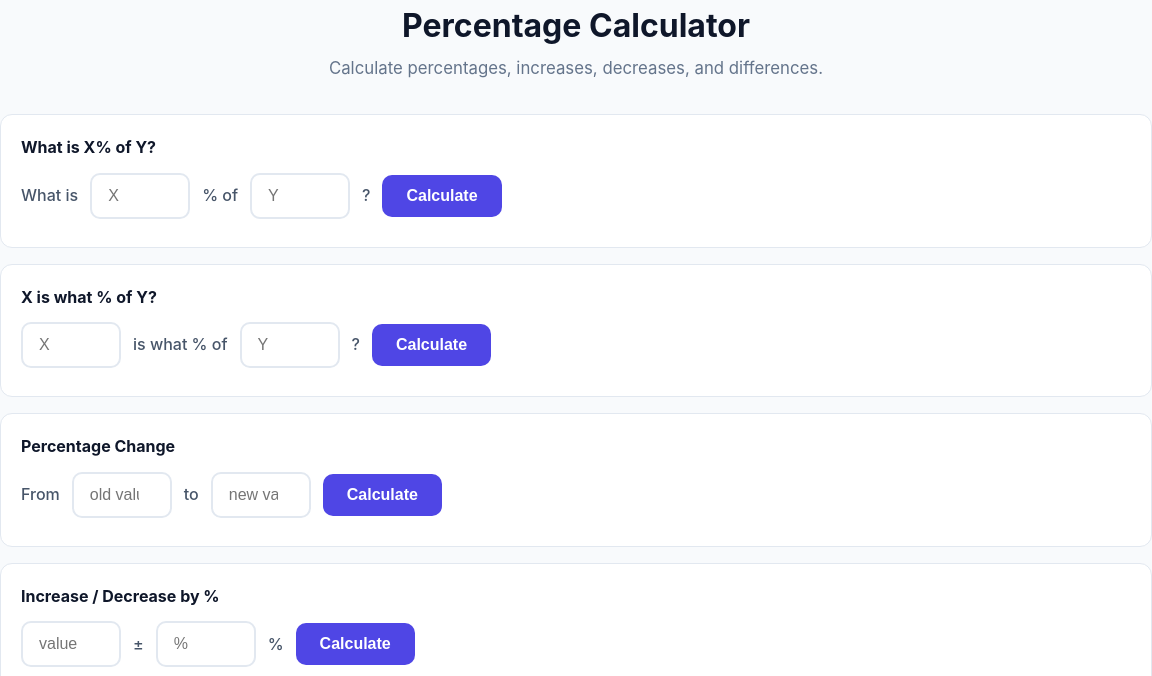
Scenario: PercentageCalculator › calculates X% of Y
Type "25" into the number field with placeholder "X" below "What is X% of Y?".
click(140, 196); type("25")  # box [90,173,190,219]
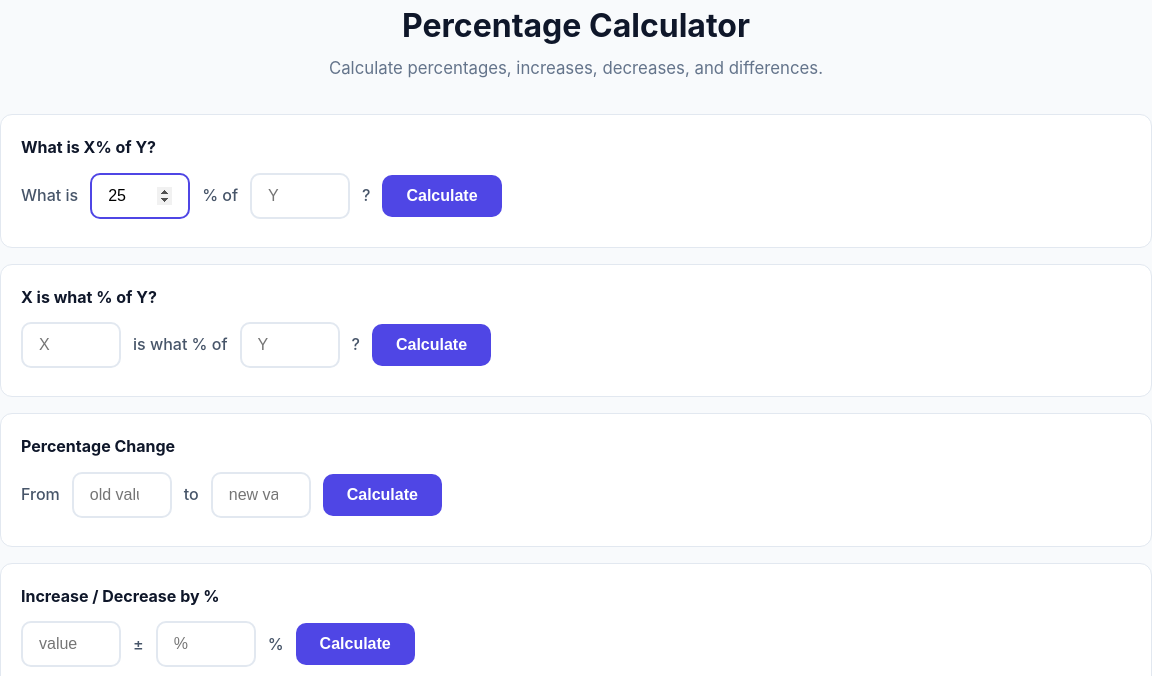
Type "200" into the number field with placeholder "Y" below "What is X% of Y?".
click(300, 196); type("200")  # box [250,173,350,219]
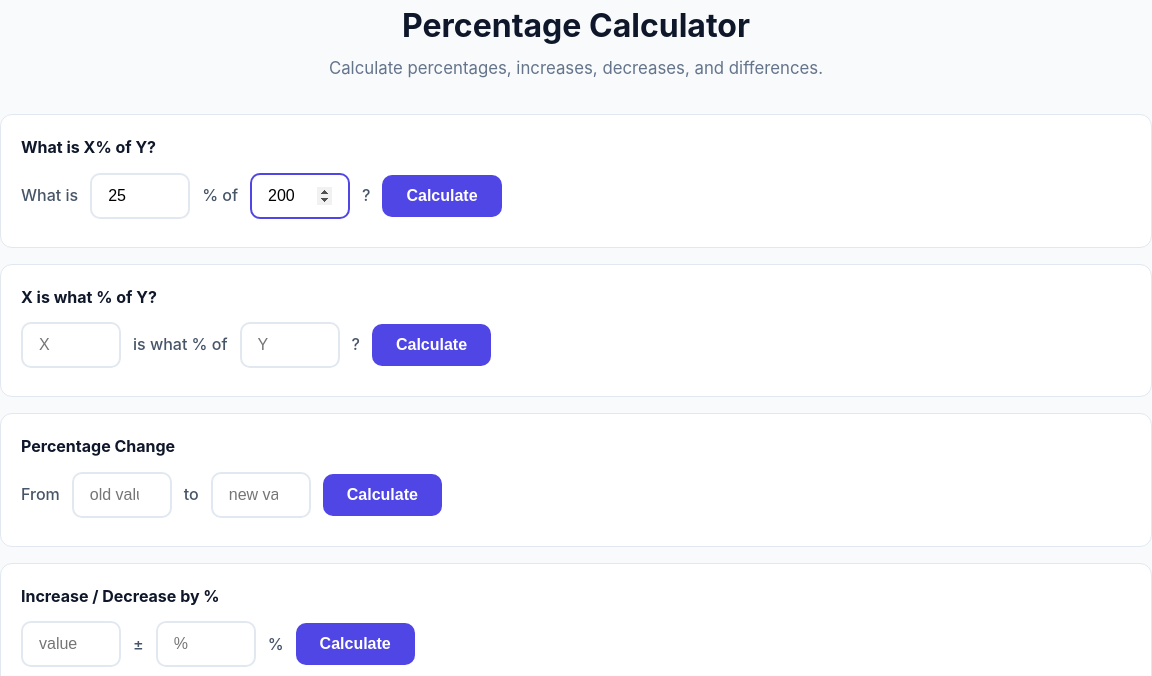
Click the button "Calculate" below "What is X% of Y?".
click(442, 196)  # box [382,175,502,217]
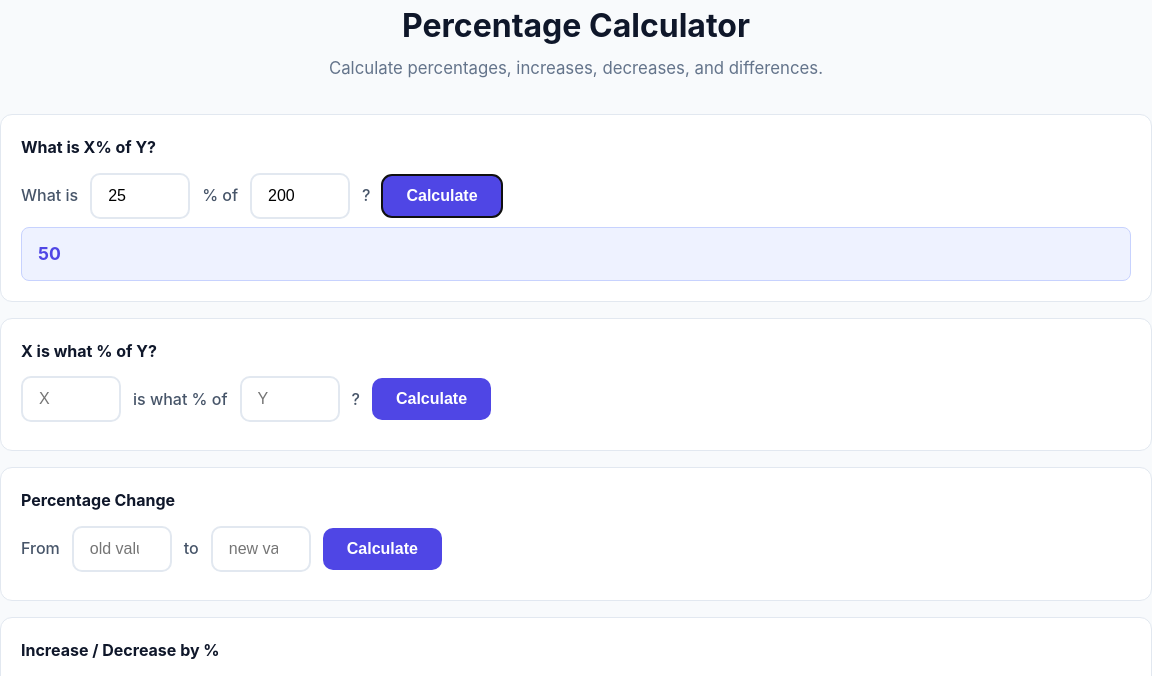
Expected: the text "50" is shown, [21,227,1131,281]
